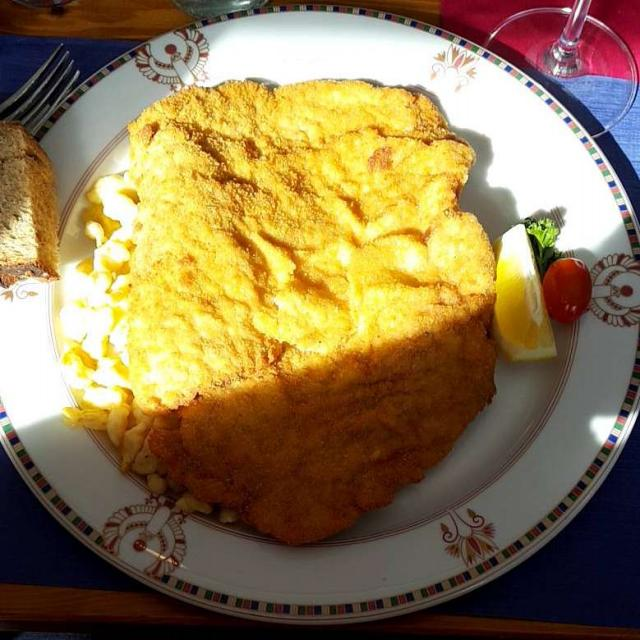breadcrumbs-unspiced: (145, 85, 476, 491)
pork-escalope: (111, 86, 508, 542)
spaetzle: (64, 149, 218, 515)
